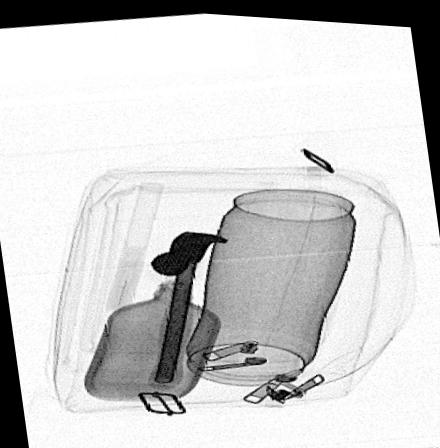Hammer: (147, 229, 227, 388)
